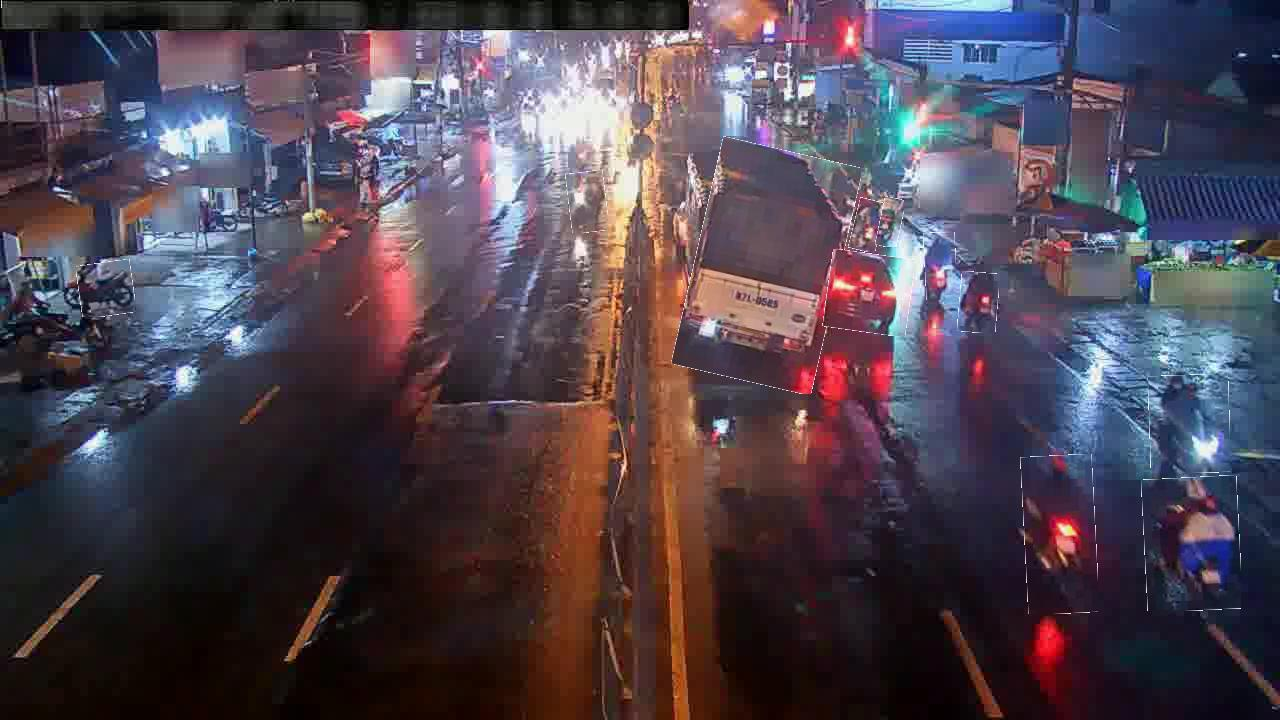8: (683, 143, 850, 389)
container: (825, 252, 913, 335)
motorbike: (1143, 476, 1241, 611), (1022, 455, 1097, 615), (1149, 374, 1231, 474), (78, 261, 135, 317), (567, 171, 608, 233), (959, 272, 999, 334), (924, 233, 957, 301), (851, 199, 884, 252), (878, 197, 903, 248)
